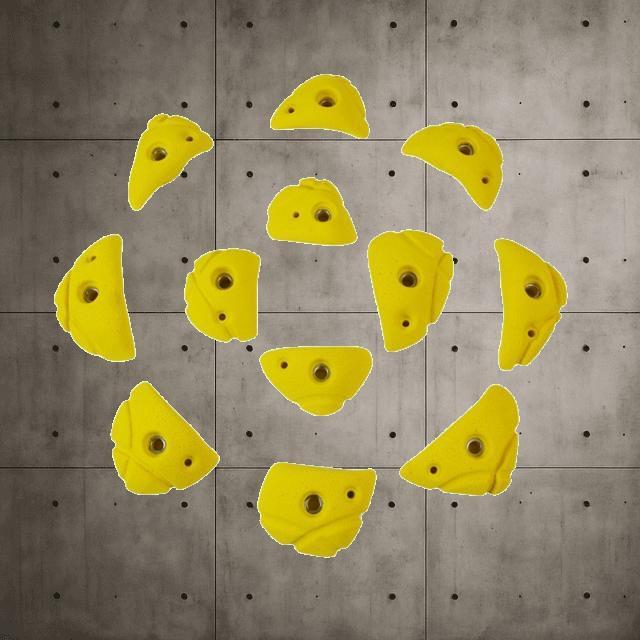Jug: (399, 384, 519, 496), (110, 382, 218, 494), (258, 462, 376, 556), (367, 228, 453, 352), (54, 234, 134, 362), (494, 238, 566, 370), (401, 122, 503, 210), (128, 112, 212, 210), (260, 346, 372, 416), (184, 248, 260, 342), (270, 73, 370, 139), (267, 177, 357, 245)
